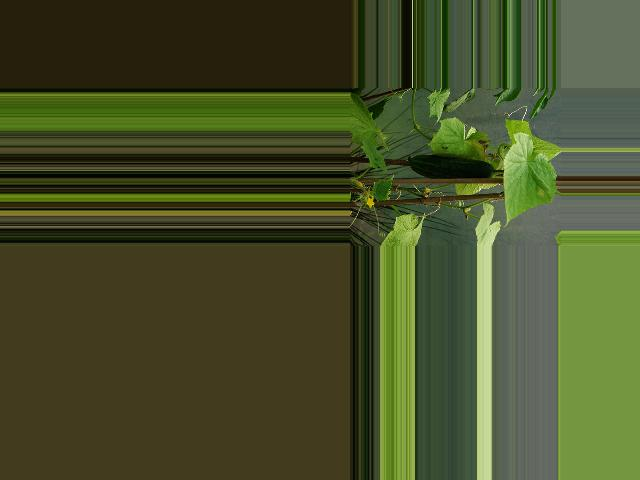cucumber: (408, 154, 494, 179)
